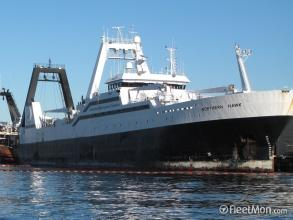Cargoship: (3, 23, 291, 174)
